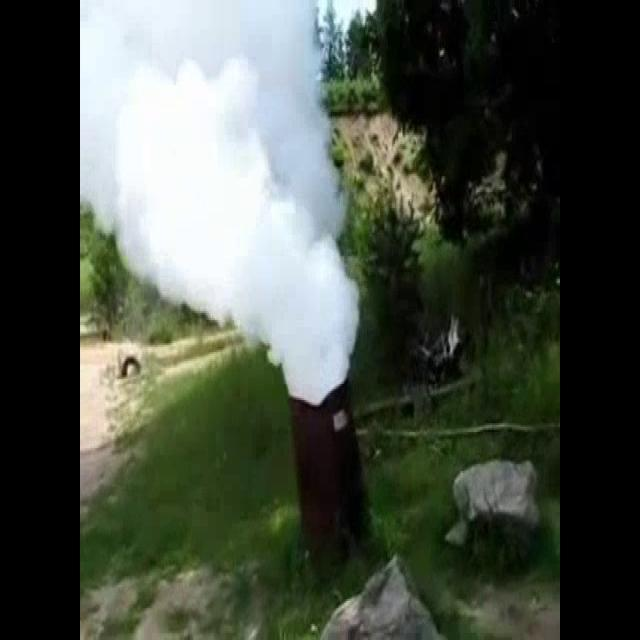Smoke: (80, 0, 366, 407)
